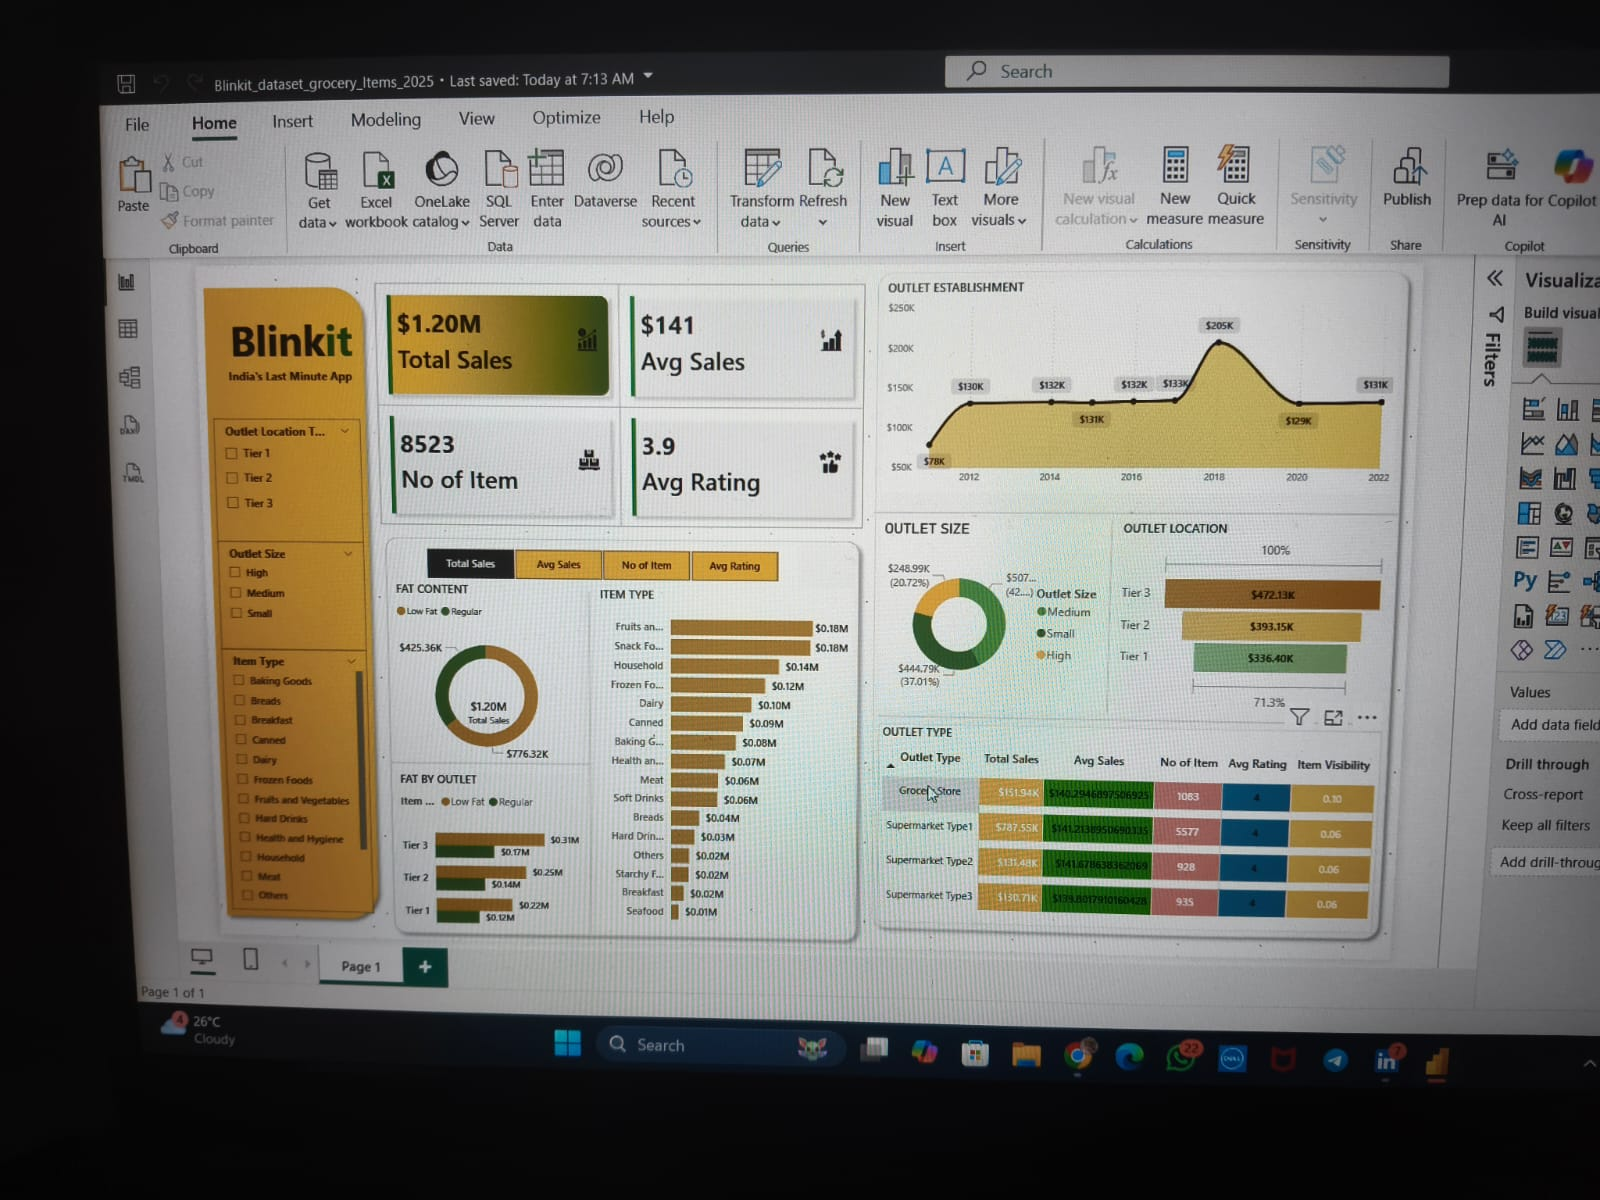

What the dashboard file says about the page in this screenshot:
{"tool":"powerbi","page":{"name":"Page 1","canvas":[1400,800],"ordinal":0},"visuals":[{"type":"shape","box":[0,16,208,768],"z":0},{"type":"textbox","box":[16,48,192,80],"z":1000},{"type":"textbox","box":[32,112,160,48],"z":2000},{"type":"cardVisual","fields":{"Data":["BlinkIT Grocery Data.Total Sales","BlinkIT Grocery Data.Avg Sales","BlinkIT Grocery Data.No of Item","BlinkIT Grocery Data.Avg Rating"]},"box":[208,16,576,288],"z":3000},{"type":"shape","box":[208,304,576,496],"z":4000},{"type":"donutChart","title":" FAT CONTENT","fields":{"Y":["BlinkIT Grocery Data.Total Sales"],"Category":["BlinkIT Grocery Data.Item Fat Content"]},"box":[224,365,220,230],"z":5000},{"type":"slicer","fields":{"Values":["Metrices.Metrices"]},"box":[240,320,464,48],"z":6000},{"type":"cardVisual","fields":{"Data":["BlinkIT Grocery Data.Total Sales"]},"box":[256,432,160,176],"z":7000},{"type":"clusteredBarChart","title":"FAT BY OUTLET","fields":{"Y":["BlinkIT Grocery Data.Total Sales"],"Category":["BlinkIT Grocery Data.Outlet Location Type"],"Series":["BlinkIT Grocery Data.Item Fat Content"]},"box":[224,592,224,208],"z":8000},{"type":"shape","box":[432,375,48,416],"z":9000},{"type":"barChart","title":"ITEM TYPE","fields":{"Y":["BlinkIT Grocery Data.Total Sales"],"Category":["BlinkIT Grocery Data.Item Type"]},"box":[464,368,304,416],"z":10000},{"type":"shape","box":[784,0,608,784],"z":11000},{"type":"lineChart","title":"OUTLET ESTABLISHMENT","fields":{"Y":["BlinkIT Grocery Data.Total Sales"],"Category":["BlinkIT Grocery Data.Outlet Establishment Year"]},"box":[800,16,576,240],"z":12000},{"type":"shape","box":[792,256,592,48],"z":13000},{"type":"donutChart","title":"OUTLET SIZE","fields":{"Category":["BlinkIT Grocery Data.Outlet Size"],"Y":["BlinkIT Grocery Data.Total Sales"]},"box":[800,288,272,224],"z":14000},{"type":"funnel","title":"OUTLET LOCATION","fields":{"Category":["BlinkIT Grocery Data.Outlet Location Type"],"Y":["BlinkIT Grocery Data.Total Sales"]},"box":[1072,288,304,224],"z":15000},{"type":"shape","box":[219,575,240,16],"z":16000},{"type":"shape","box":[800,512,576,16],"z":17000},{"type":"shape","box":[1040,288,48,224],"z":18000},{"type":"pivotTable","title":"OUTLET TYPE","fields":{"Rows":["BlinkIT Grocery Data.Outlet Type"],"Values":["BlinkIT Grocery Data.Total Sales","BlinkIT Grocery Data.Avg Sales","BlinkIT Grocery Data.No of Item","BlinkIT Grocery Data.Avg Rating","Avg(BlinkIT Grocery Data.Item Visibility)"]},"box":[800,528,576,240],"z":19000},{"type":"slicer","title":"OUTL","fields":{"Values":["BlinkIT Grocery Data.Outlet Location Type"]},"box":[16,176,176,144],"z":20000},{"type":"slicer","fields":{"Values":["BlinkIT Grocery Data.Outlet Size"]},"box":[16,320,176,128],"z":21000},{"type":"slicer","fields":{"Values":["BlinkIT Grocery Data.Item Type"]},"box":[16,448,176,320],"z":22000}]}

Visuals, with their boxes on the page's 1400x800 design canvas (x1, y1, x2, y2). These are canvas units, not pixel positions in the 1600x1200 screenshot, which may show the page scaled, cropped or inside an application window:
shape: [left=0, top=16, right=208, bottom=784]
textbox: [left=16, top=48, right=208, bottom=128]
textbox: [left=32, top=112, right=192, bottom=160]
cardVisual - BlinkIT Grocery Data.Total Sales x BlinkIT Grocery Data.Avg Sales: [left=208, top=16, right=784, bottom=304]
shape: [left=208, top=304, right=784, bottom=800]
" FAT CONTENT" donutChart: [left=224, top=365, right=444, bottom=595]
slicer - Metrices.Metrices: [left=240, top=320, right=704, bottom=368]
cardVisual - BlinkIT Grocery Data.Total Sales: [left=256, top=432, right=416, bottom=608]
"FAT BY OUTLET" clusteredBarChart: [left=224, top=592, right=448, bottom=800]
shape: [left=432, top=375, right=480, bottom=791]
"ITEM TYPE" barChart: [left=464, top=368, right=768, bottom=784]
shape: [left=784, top=0, right=1392, bottom=784]
"OUTLET ESTABLISHMENT" lineChart: [left=800, top=16, right=1376, bottom=256]
shape: [left=792, top=256, right=1384, bottom=304]
"OUTLET SIZE" donutChart: [left=800, top=288, right=1072, bottom=512]
"OUTLET LOCATION" funnel: [left=1072, top=288, right=1376, bottom=512]
shape: [left=219, top=575, right=459, bottom=591]
shape: [left=800, top=512, right=1376, bottom=528]
shape: [left=1040, top=288, right=1088, bottom=512]
"OUTLET TYPE" pivotTable: [left=800, top=528, right=1376, bottom=768]
"OUTL" slicer: [left=16, top=176, right=192, bottom=320]
slicer - BlinkIT Grocery Data.Outlet Size: [left=16, top=320, right=192, bottom=448]
slicer - BlinkIT Grocery Data.Item Type: [left=16, top=448, right=192, bottom=768]
